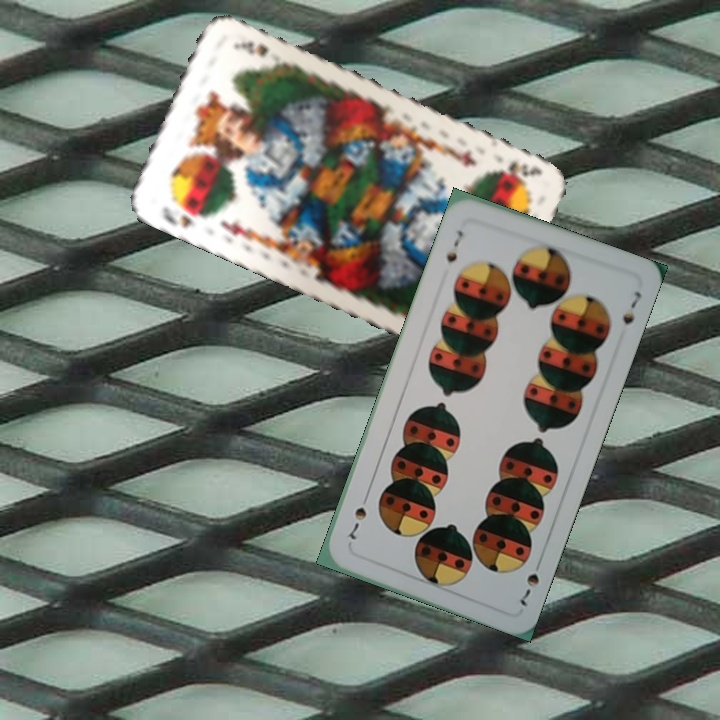S7: (515, 554, 545, 609), (442, 226, 466, 266)
SK: (158, 196, 209, 231), (504, 157, 545, 180)
